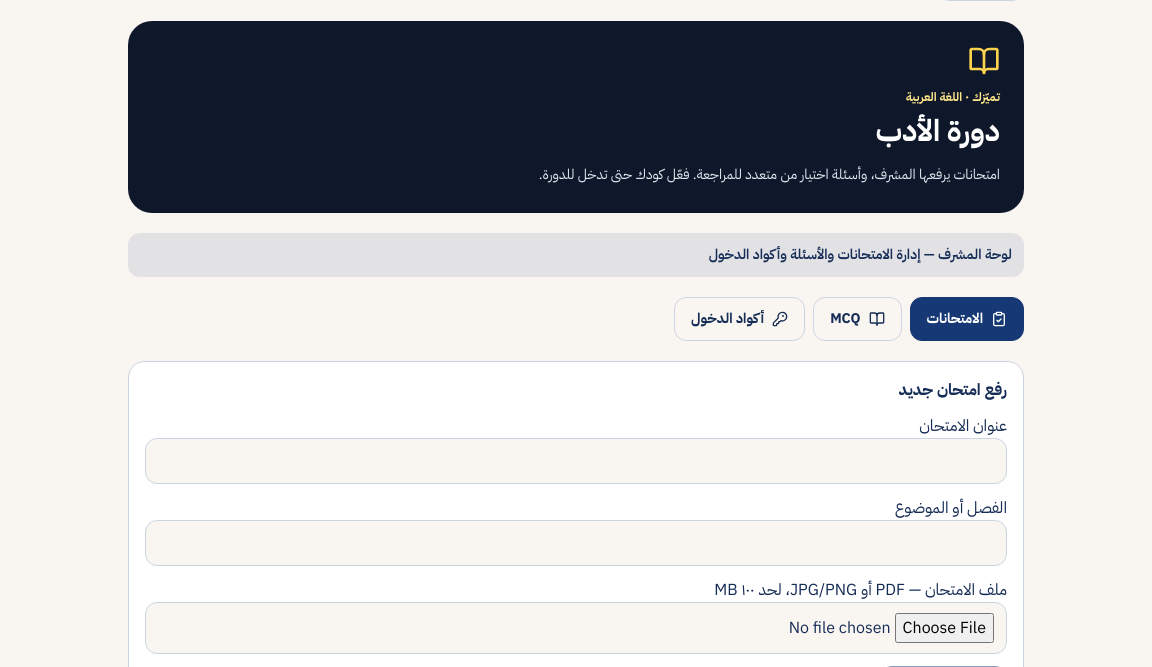
Scenario: literature course › clears generated access codes when the account changes
This screenshot has width=1152, height=667.
Later steps or results of the test are not shown.
Click the button "أكواد الدخول".
click(740, 319)  # box [674,297,805,341]
(page scrolled)
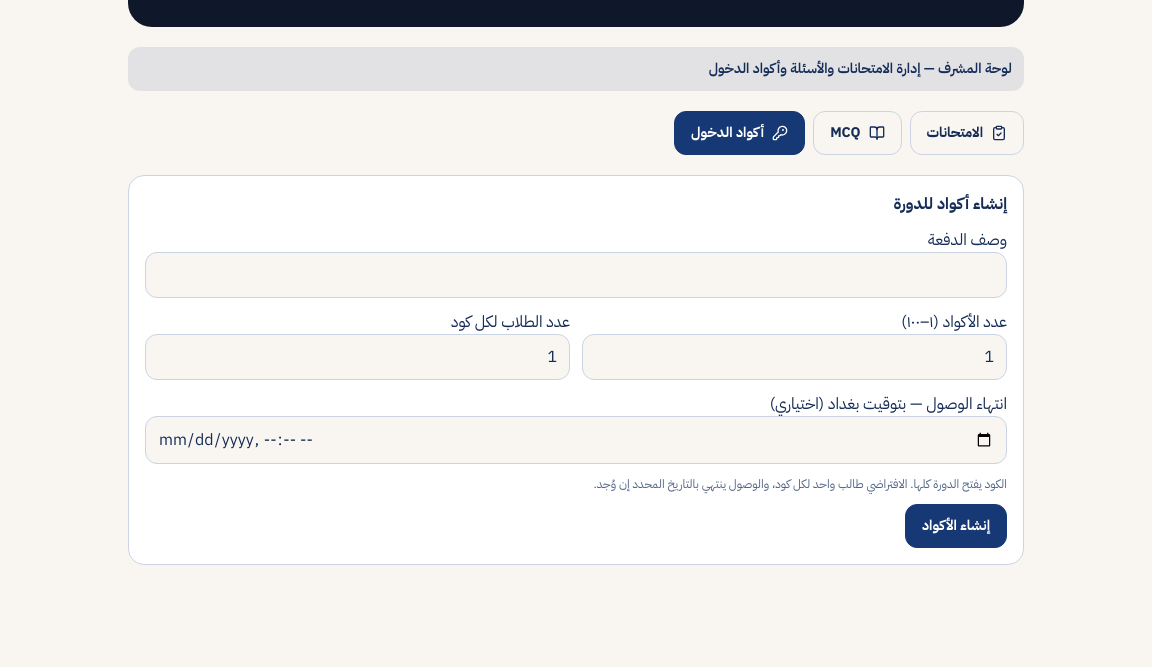
Click the button "إنشاء الأكواد".
click(956, 526)  # box [905,504,1007,548]
(page scrolled)
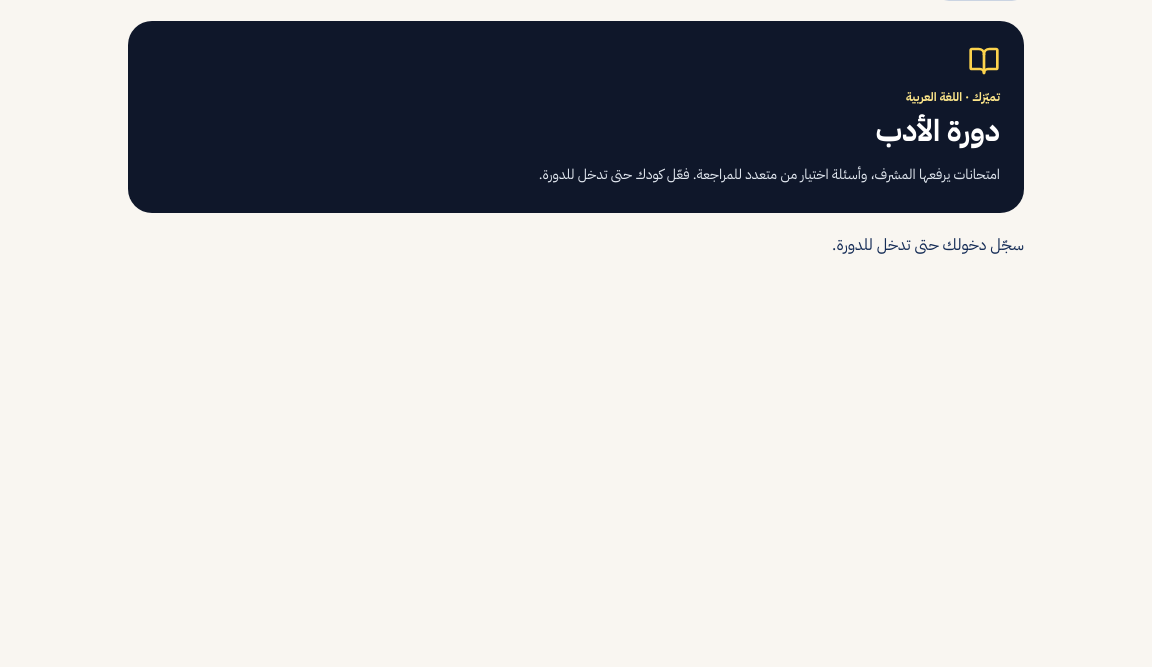
Result: the text "سجّل دخولك حتى تدخل للدورة." is shown at [832,233,1024,257]
